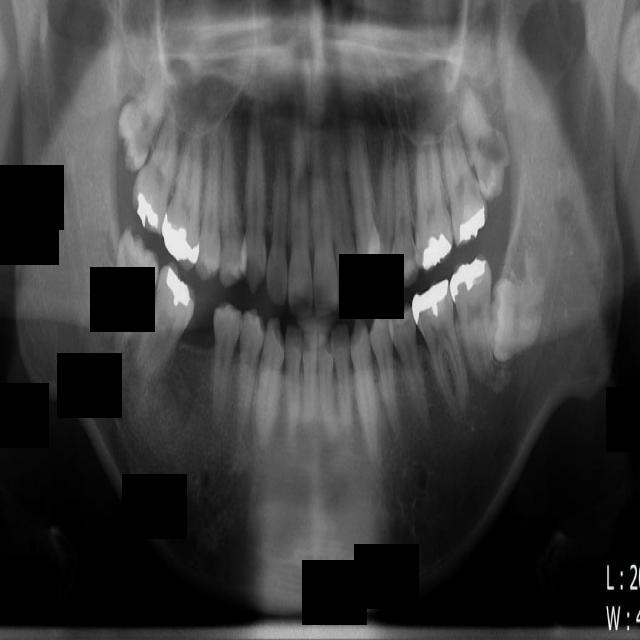3M ESPE Implant: (102, 56, 181, 177)
52: (142, 258, 210, 333), (117, 165, 179, 243), (145, 209, 210, 275), (440, 252, 504, 315), (441, 189, 503, 251), (403, 275, 463, 330), (409, 225, 464, 273), (473, 132, 507, 168), (318, 333, 334, 369), (302, 334, 317, 364)
73: (628, 574, 634, 585)
BioHorizons Implant: (434, 93, 493, 248)
BioLife Implant: (451, 80, 522, 204)
Biomet 3i Implant: (486, 275, 545, 363)
Blue Sky Bio Implant: (448, 253, 494, 379)
Caries: (124, 107, 185, 239)
Implant: (132, 260, 205, 381)
Keystone Dental Implant: (101, 227, 166, 353)
